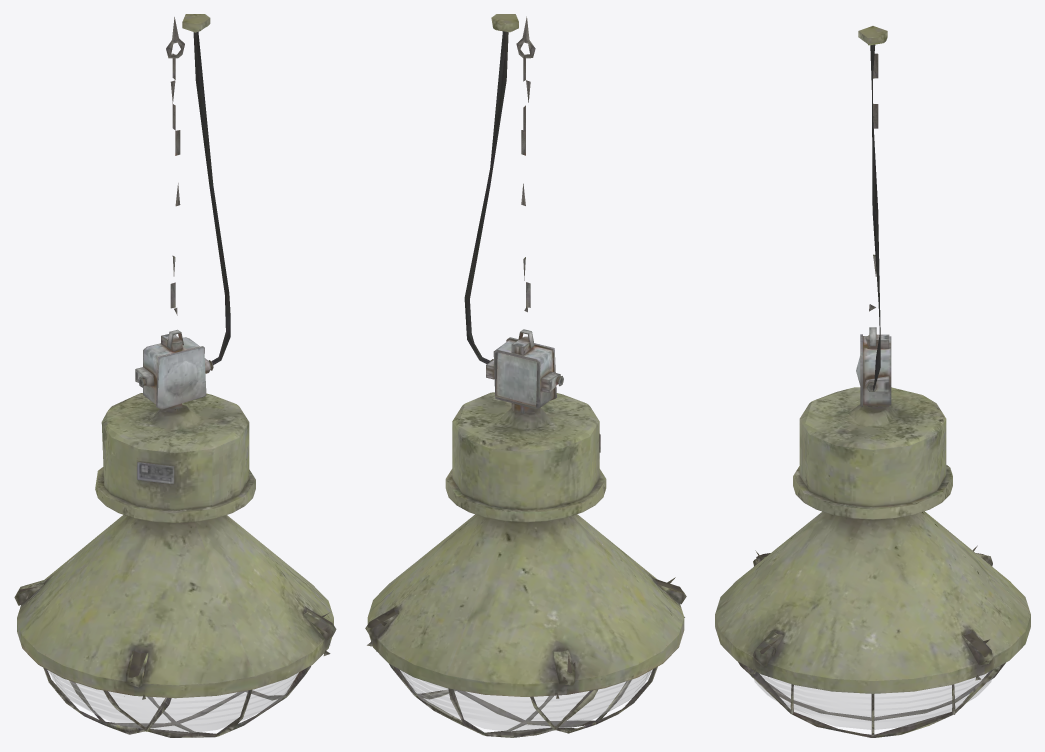
The model's file is hanging_industrial_lamp.glb.
The picture shows the model from 3 angles, left to right: view 1: azimuth 30°, elevation 25°; view 2: azimuth 150°, elevation 25°; view 3: azimuth 270°, elevation 25°; orthographic projection.
Visible parts, largest first — view 1: hanging_industrial_lamp; view 2: hanging_industrial_lamp; view 3: hanging_industrial_lamp.
Part boxes in pixels (<box>): hanging_industrial_lamp: <box>14,14,336,737</box>; hanging_industrial_lamp: <box>365,14,686,737</box>; hanging_industrial_lamp: <box>715,26,1030,737</box>.
Bounding box in the file's own units: 0.5497 × 1.36 × 0.5497.
Materials: 2 (1 with a texture image).
